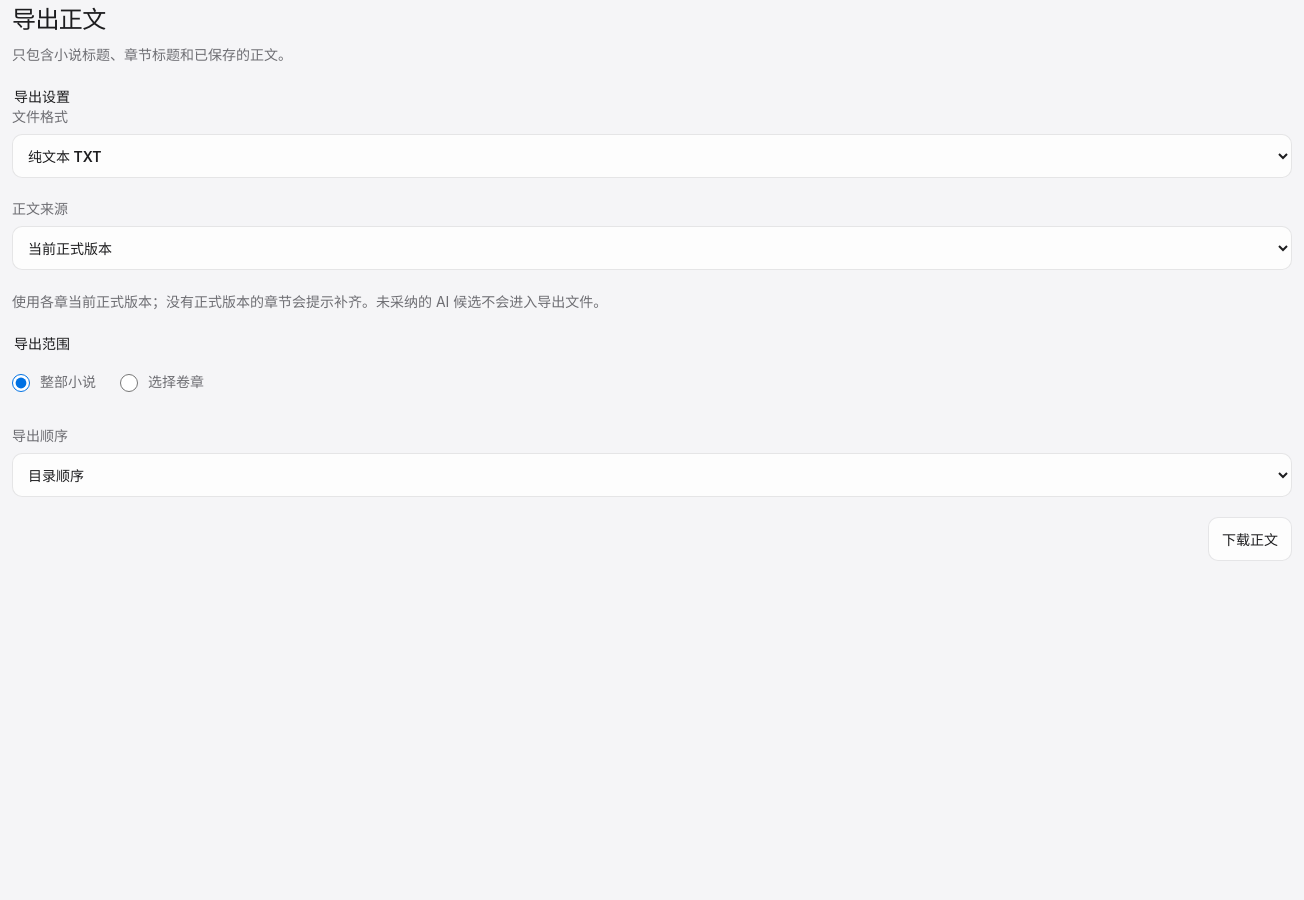
shows missing published versions without starting a download
This screenshot has width=1304, height=900.
Click the button "下载正文": {"x": 1250, "y": 539} [1208,517,1292,561]
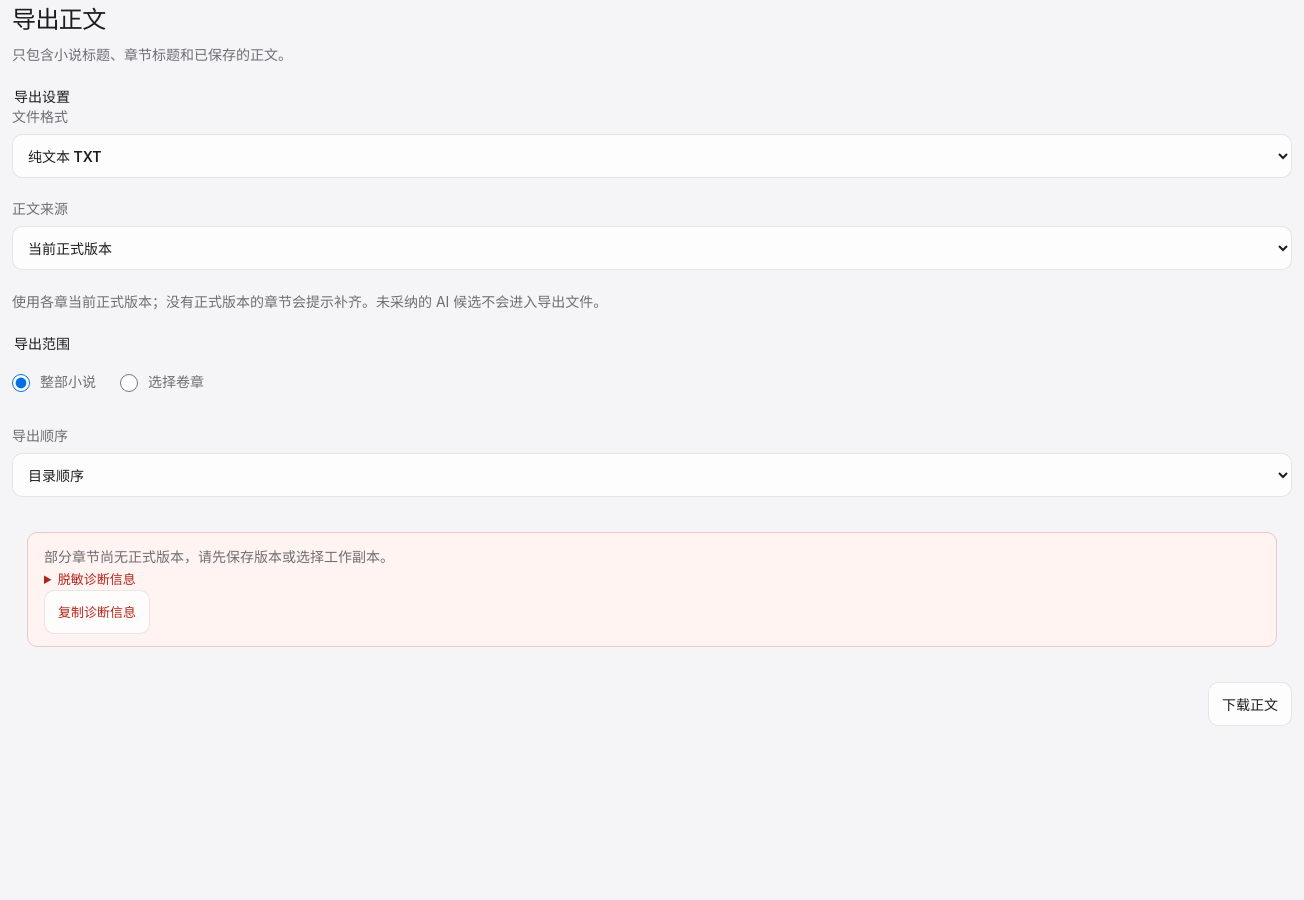
Now the message shows "部分章节尚无正式版本", box [44,548,394,565]
